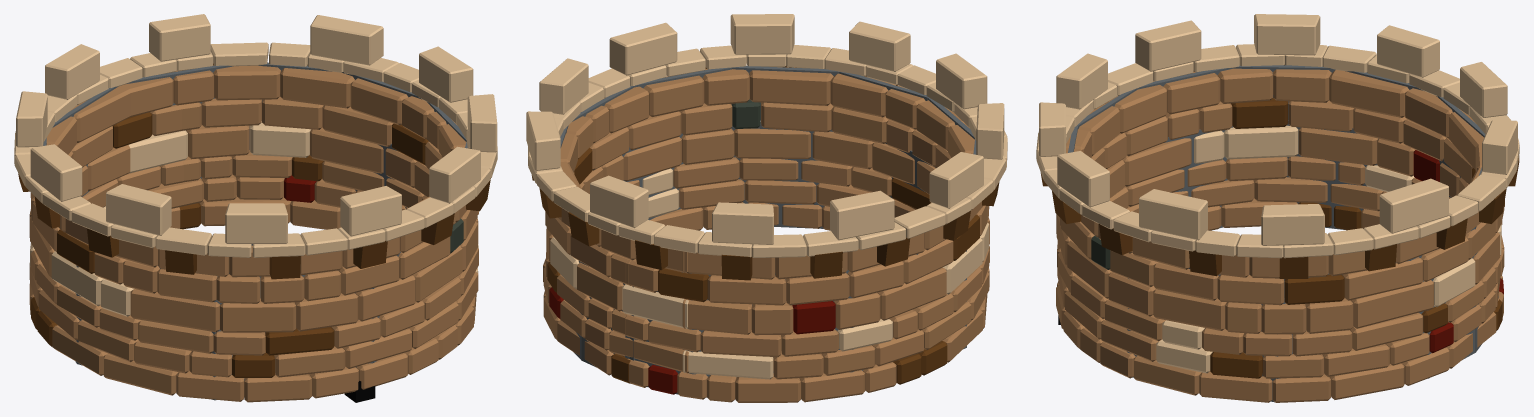
File: top-section-with-crenellation-rb.glb
3 renders of one model, left to right at view 1: azimuth 30°, elevation 25°; view 2: azimuth 150°, elevation 25°; view 3: azimuth 270°, elevation 25°, orthographic.
Parts seen in each view (by area): view 1: main-wall.112, top-section-2.002, top-section-1.001, grout-wall.004, strut-1.001, strut-11.001, strut-8.001, strut-15.001, strut-12.001, strut-4.001; view 2: main-wall.112, top-section-2.002, top-section-1.001, grout-wall.004, strut-6.001, strut-16.001, strut-2.001, strut-10.001, strut-9.001, strut-4.001; view 3: main-wall.112, top-section-2.002, top-section-1.001, grout-wall.004, strut-13.001, strut-14.001, strut-5.001, strut-3.001, strut-7.001, strut-9.001, strut-12.001.
Part boxes in pixels (left/top/right/bottom): main-wall.112: left=29, top=64, right=478, bottom=402; top-section-2.002: left=16, top=14, right=497, bottom=243; top-section-1.001: left=14, top=42, right=497, bottom=257; grout-wall.004: left=43, top=62, right=467, bottom=400; strut-1.001: left=353, top=241, right=387, bottom=268; strut-11.001: left=269, top=256, right=300, bottom=279; strut-8.001: left=165, top=250, right=196, bottom=274; strut-15.001: left=87, top=228, right=118, bottom=257; strut-12.001: left=421, top=213, right=454, bottom=244; strut-4.001: left=34, top=196, right=59, bottom=228; main-wall.112: left=543, top=67, right=989, bottom=402; top-section-2.002: left=526, top=14, right=1004, bottom=244; top-section-1.001: left=528, top=44, right=1007, bottom=257; grout-wall.004: left=560, top=66, right=976, bottom=397; strut-6.001: left=810, top=251, right=842, bottom=278; strut-16.001: left=721, top=254, right=752, bottom=280; strut-2.001: left=635, top=240, right=667, bottom=270; strut-10.001: left=877, top=237, right=910, bottom=266; strut-9.001: left=568, top=212, right=599, bottom=246; strut-4.001: left=943, top=210, right=970, bottom=240; main-wall.112: left=1056, top=68, right=1504, bottom=402; top-section-2.002: left=1039, top=14, right=1517, bottom=245; top-section-1.001: left=1036, top=44, right=1519, bottom=258; grout-wall.004: left=1068, top=65, right=1498, bottom=402; strut-13.001: left=1189, top=250, right=1221, bottom=276; strut-14.001: left=1365, top=244, right=1396, bottom=271; strut-5.001: left=1099, top=224, right=1132, bottom=255; strut-3.001: left=1279, top=256, right=1308, bottom=278; strut-7.001: left=1436, top=218, right=1467, bottom=249; strut-9.001: left=1479, top=188, right=1506, bottom=223; strut-12.001: left=1052, top=191, right=1081, bottom=223.
Size of the model in its own units: 3.12 by 1.47 by 3.12.
